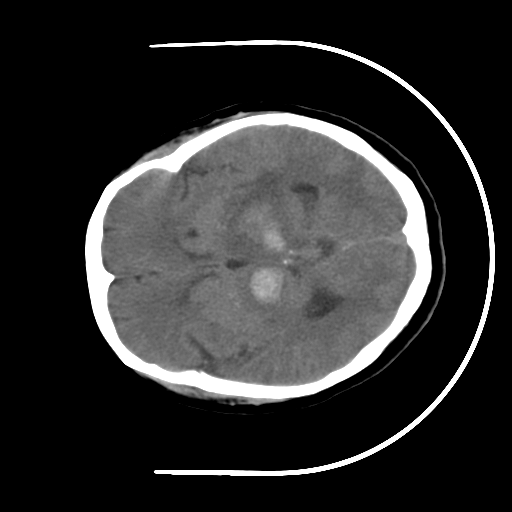a: (216, 160, 307, 322)
